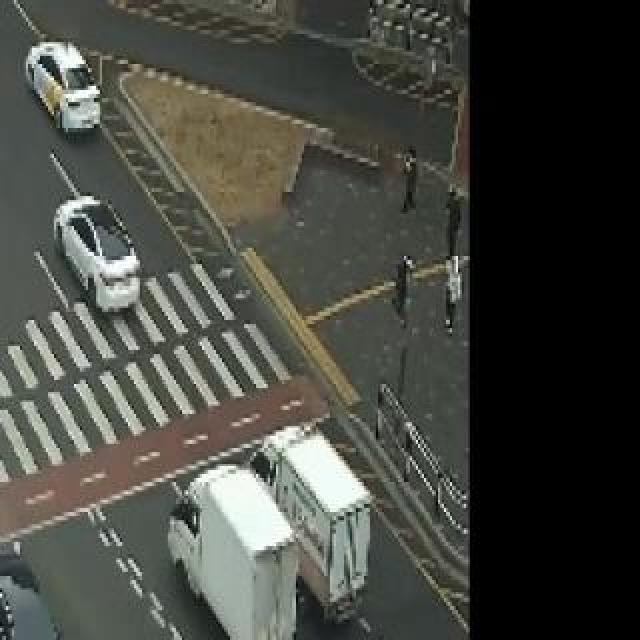truck: (247, 410, 385, 638), (168, 452, 302, 640)
